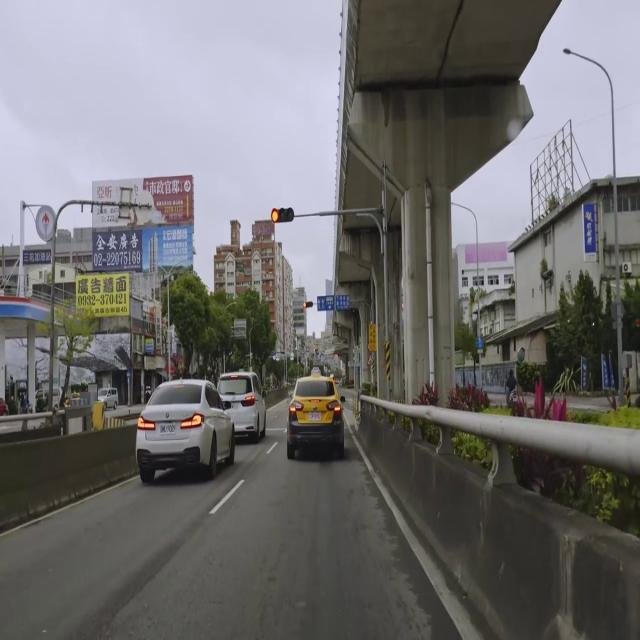red light: (270, 207, 294, 223), (303, 301, 313, 308)
